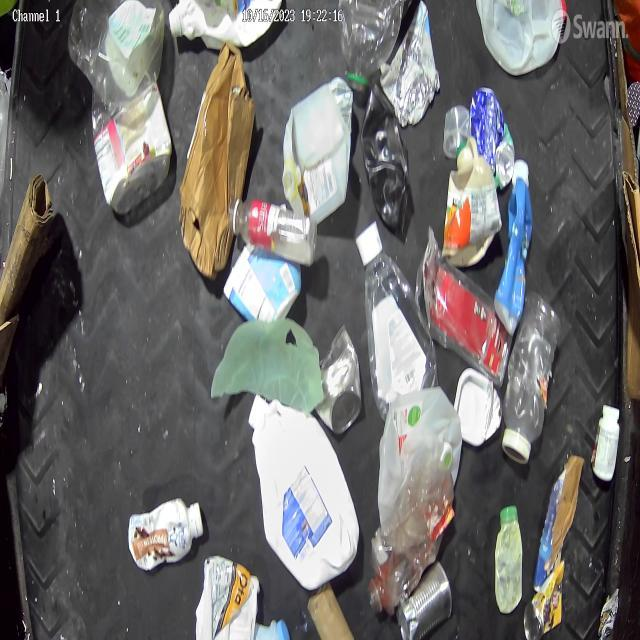can: (314, 324, 364, 436), (468, 85, 516, 194), (395, 558, 453, 640), (522, 556, 565, 640)
milk_jug: (246, 392, 362, 592), (377, 383, 463, 529), (280, 81, 352, 228), (475, 0, 568, 78)
plastic_bottle: (501, 288, 563, 466)
